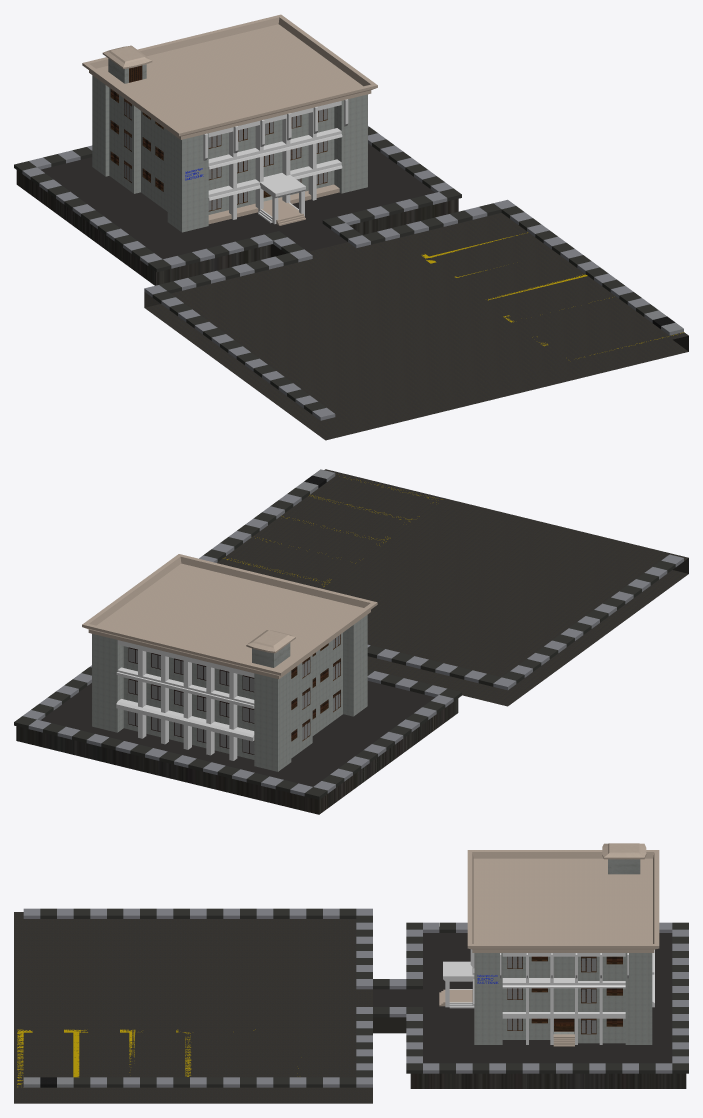
File: modelku.glb
3 views of the same model, one above another, from view 1: azimuth 30°, elevation 25°; view 2: azimuth 150°, elevation 25°; view 3: azimuth 270°, elevation 25° (orthographic).
Parts seen in each view (by area): view 1: Cube.154, gedung.006, Cube, gedung, Cube.130, Cube.131, tiang, Cube.006, Cube.002; view 2: Cube.154, gedung.006, Cube, gedung, Cube.130, Cube.131, tiang, Cube.006, Cube.002, Cube.013; view 3: Cube.154, gedung.006, Cube, gedung, Cube.130, Cube.131, tiang, Cube.006, Cube.002, Cube.156, Cube.013.
Part boxes in pixels (left/top/right/bottom): Cube.154: left=144, top=213, right=688, bottom=440; gedung.006: left=82, top=14, right=377, bottom=139; Cube: left=16, top=143, right=458, bottom=285; gedung: left=92, top=75, right=367, bottom=232; Cube.130: left=22, top=126, right=683, bottom=420; Cube.131: left=14, top=127, right=675, bottom=414; tiang: left=203, top=99, right=348, bottom=224; Cube.006: left=110, top=89, right=327, bottom=211; Cube.002: left=102, top=45, right=339, bottom=225; Cube.154: left=217, top=469, right=688, bottom=706; gedung.006: left=82, top=554, right=377, bottom=679; Cube: left=16, top=681, right=458, bottom=814; gedung: left=92, top=615, right=367, bottom=771; Cube.130: left=23, top=469, right=683, bottom=796; Cube.131: left=14, top=475, right=675, bottom=799; tiang: left=116, top=640, right=254, bottom=760; Cube.006: left=128, top=634, right=340, bottom=754; Cube.002: left=246, top=630, right=295, bottom=653; Cube.013: left=252, top=643, right=290, bottom=667; Cube.154: left=14, top=912, right=372, bottom=1103; gedung.006: left=467, top=850, right=659, bottom=952; Cube: left=373, top=927, right=686, bottom=1088; gedung: left=474, top=953, right=652, bottom=1044; Cube.130: left=23, top=908, right=688, bottom=1087; Cube.131: left=40, top=908, right=688, bottom=1087; tiang: left=443, top=949, right=654, bottom=1044; Cube.006: left=507, top=956, right=622, bottom=1034; Cube.002: left=439, top=843, right=646, bottom=1046; Cube.156: left=17, top=1029, right=298, bottom=1087; Cube.013: left=608, top=859, right=640, bottom=874.
Size of the model in its own units: 62.5 by 22.09 by 101.
14 materials, 11 textured.
